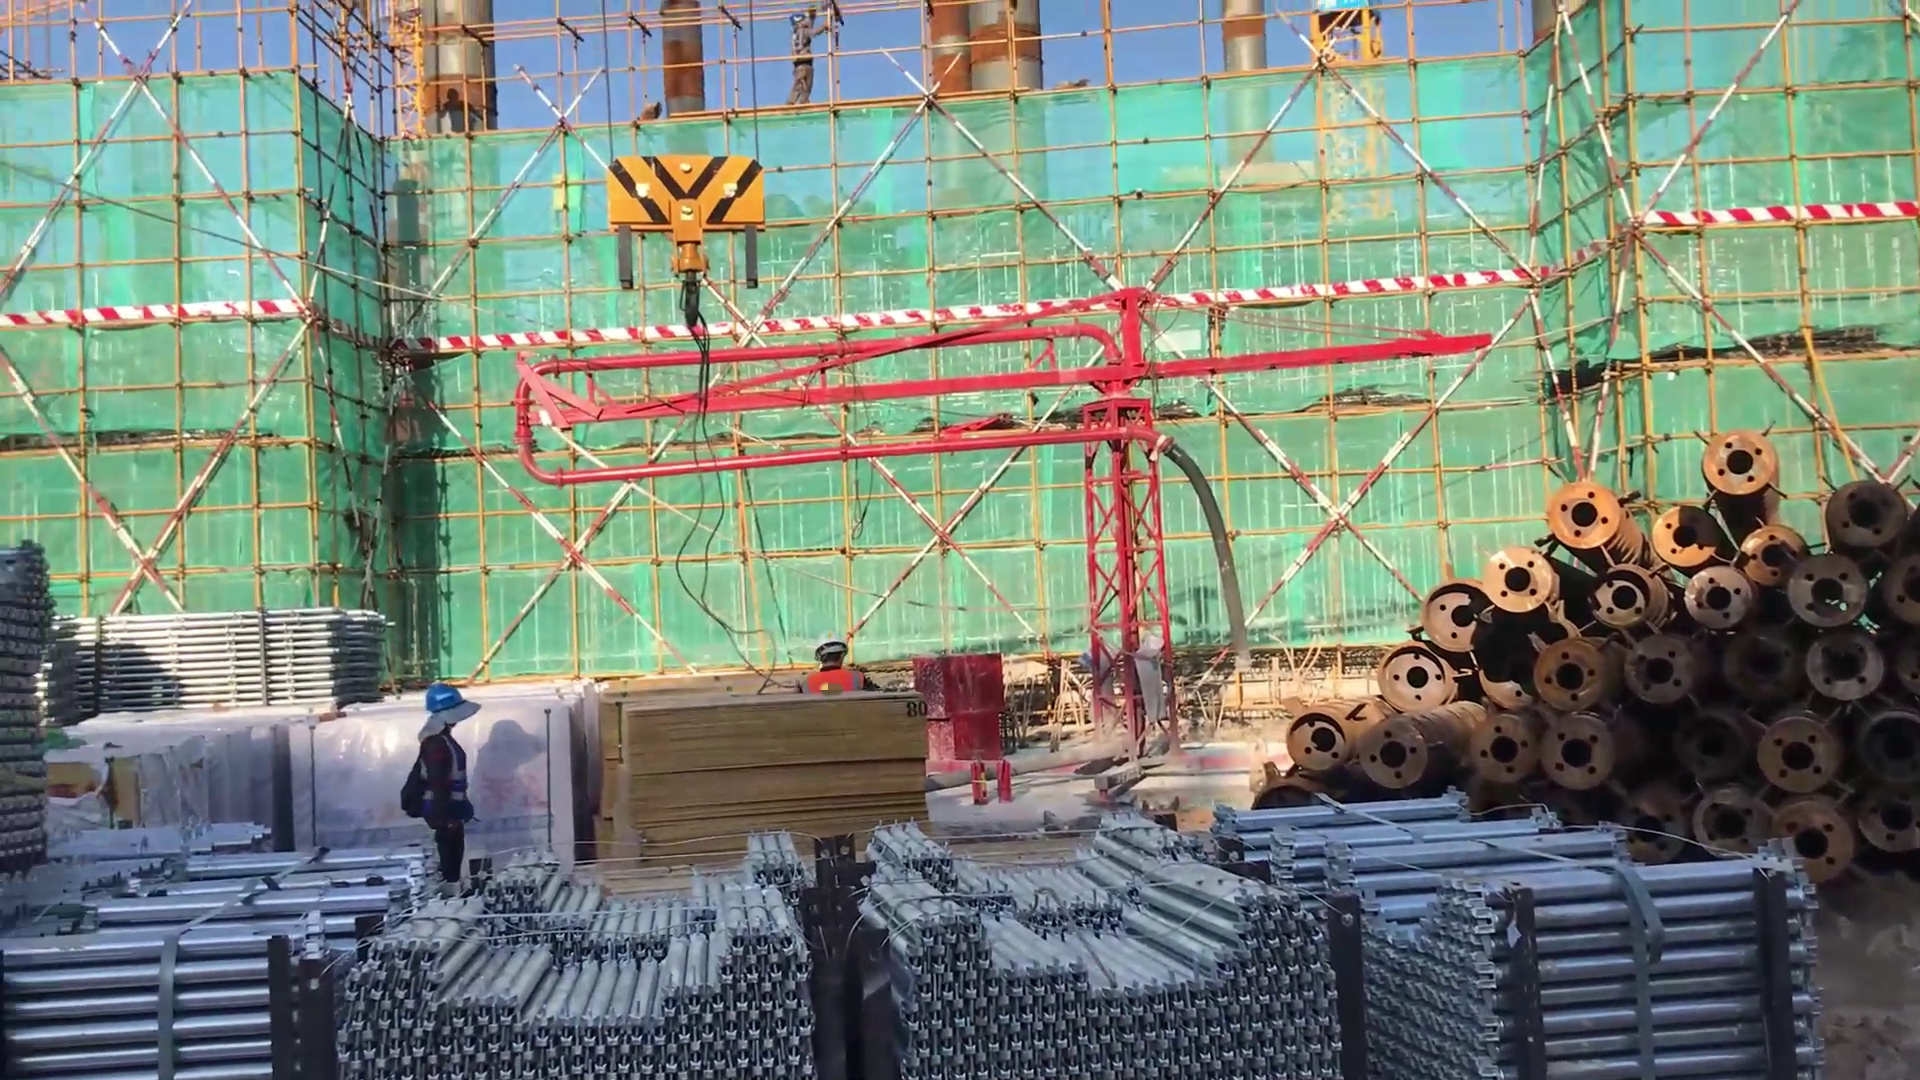board: (584, 683, 931, 870)
helmet: (416, 674, 476, 734), (809, 622, 855, 673), (783, 8, 822, 32)
hook: (606, 139, 775, 351)
person: (404, 678, 484, 904), (796, 635, 891, 712), (782, 1, 833, 122)
scaffold: (1213, 794, 1829, 1080), (863, 828, 1362, 1077), (1, 801, 437, 1080), (352, 845, 830, 1080), (66, 563, 404, 732), (1, 526, 77, 848)
vest: (409, 735, 480, 828), (797, 662, 887, 703), (789, 27, 816, 57)
